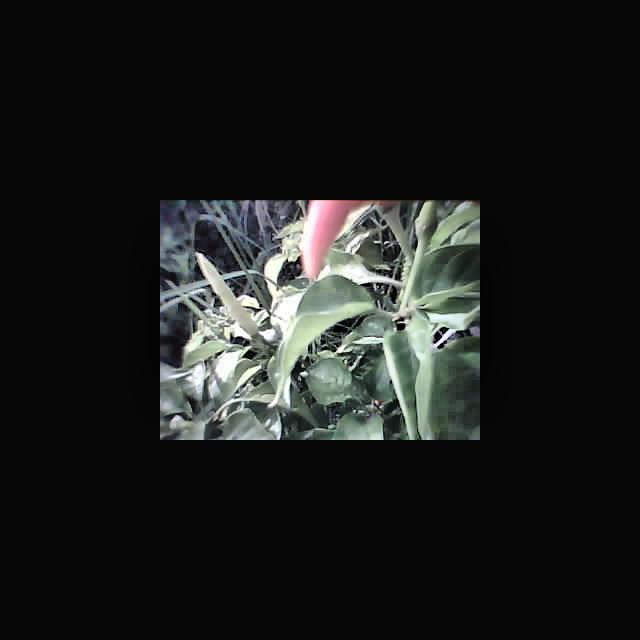Cabai: (298, 200, 348, 271)
